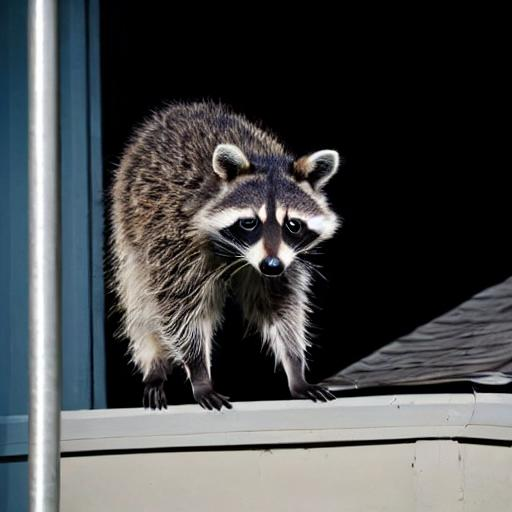raccoon: (102, 91, 347, 373)
